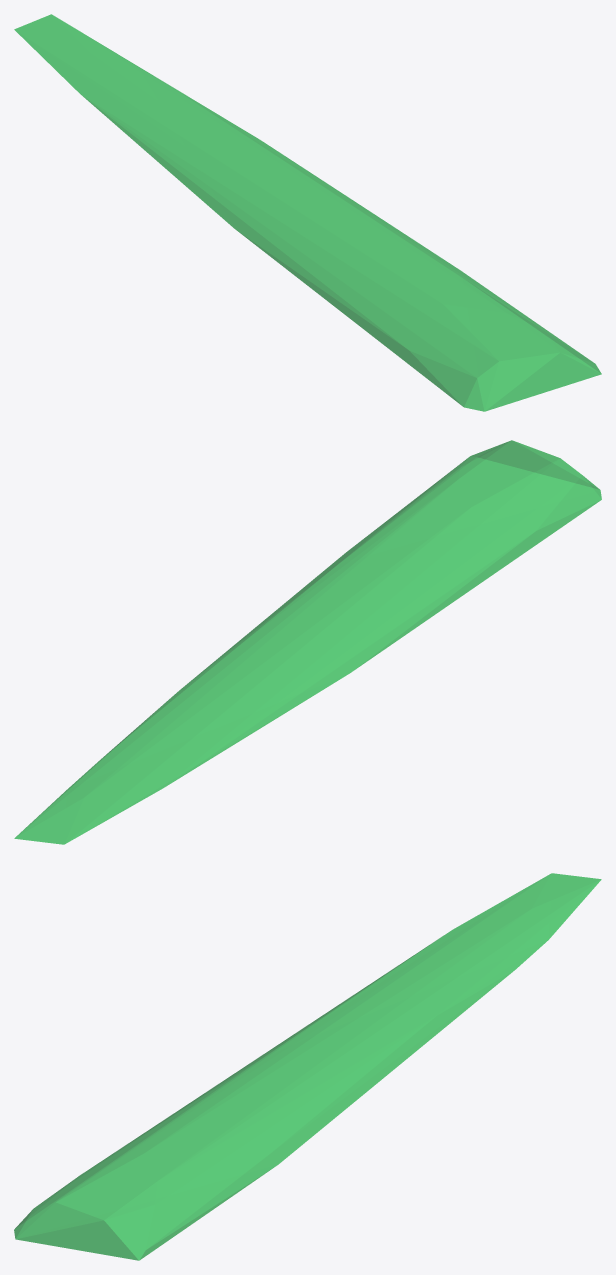
3 views of the same model, one above another, from view 1: azimuth 30°, elevation 25°; view 2: azimuth 150°, elevation 25°; view 3: azimuth 330°, elevation 25° (orthographic).
Visible parts, largest first — view 1: Shape_IndexedFaceSet.001_Shape_IndexedFaceSet.18062; view 2: Shape_IndexedFaceSet.001_Shape_IndexedFaceSet.18062; view 3: Shape_IndexedFaceSet.001_Shape_IndexedFaceSet.18062.
Part boxes in pixels (left/top/right/bottom): Shape_IndexedFaceSet.001_Shape_IndexedFaceSet.18062: left=14, top=14, right=601, bottom=411; Shape_IndexedFaceSet.001_Shape_IndexedFaceSet.18062: left=14, top=440, right=601, bottom=844; Shape_IndexedFaceSet.001_Shape_IndexedFaceSet.18062: left=14, top=873, right=601, bottom=1260.
Bounding box in the file's own units: 0.0709 × 0.0177 × 0.4755.
